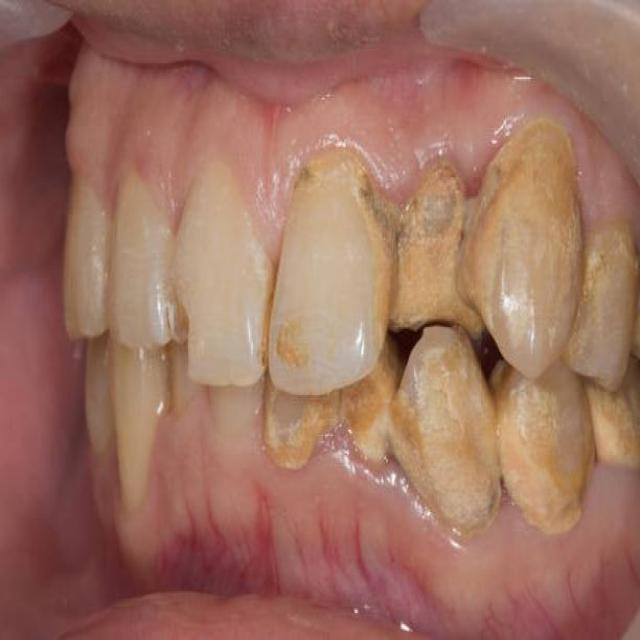caries: (155, 291, 207, 382)
